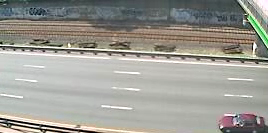car: (216, 109, 268, 131)
